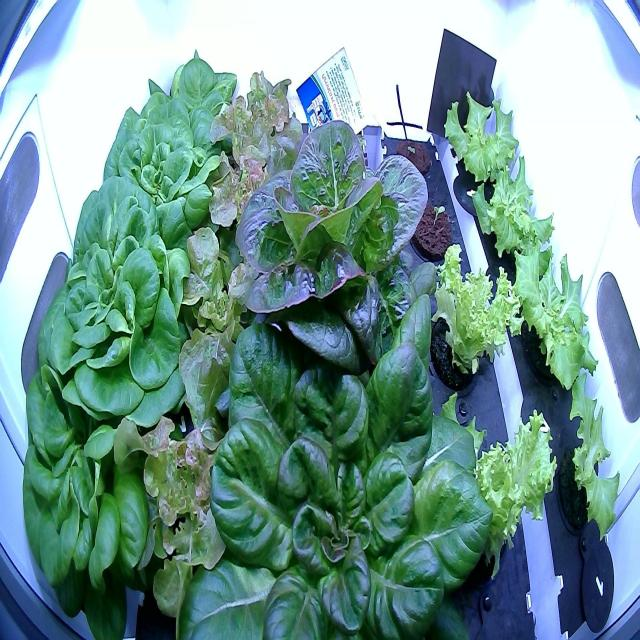Ready: (172, 271, 500, 640), (224, 109, 452, 417), (26, 168, 212, 434), (18, 354, 192, 607), (85, 93, 230, 235), (139, 34, 242, 150)
germination: (402, 192, 461, 267), (386, 127, 436, 190)
